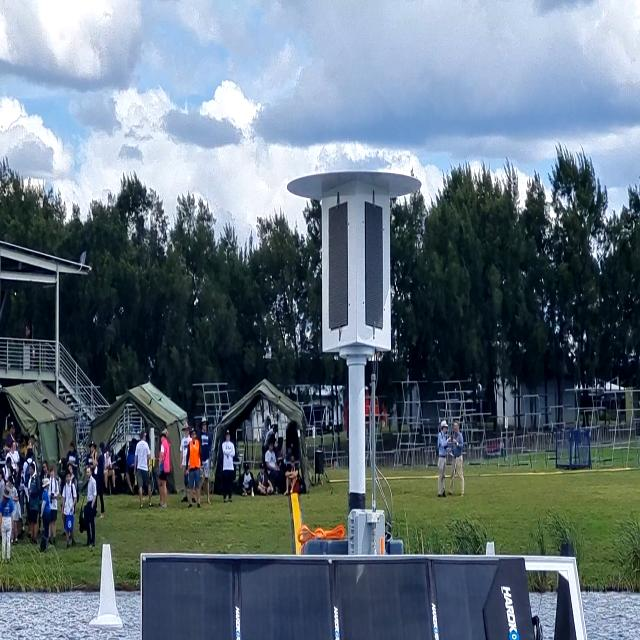led: (359, 189, 387, 341), (324, 196, 353, 337)
